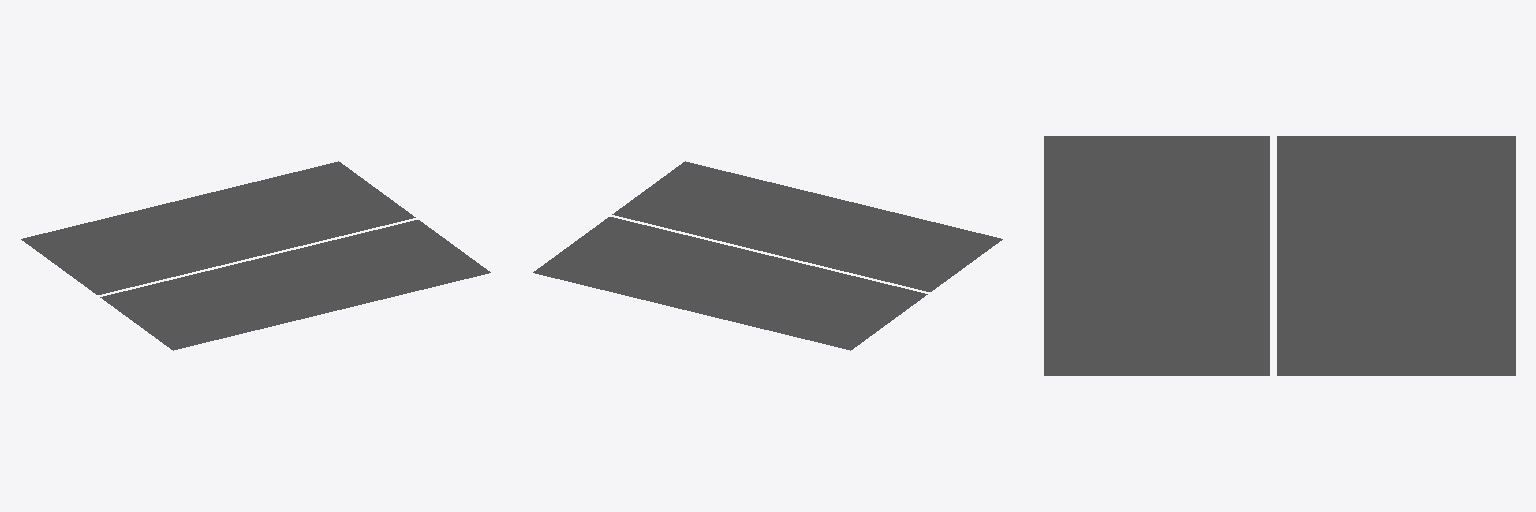
The robot description file, URDF, robot "lab_scene":
<?xml version="1.0" ?>
<robot name="lab_scene" xmlns:xacro="http://ros.org/wiki/xacro">
  <link name="base_link">
    <inertial>
      <mass value="200" />
      <inertia ixx="1.0" ixy="0.0" ixz="0.0" iyy="1.0" iyz="0.0" izz="1.0" />
    </inertial>
    <visual>
      <origin rpy="0 0 0" xyz="0 0 0"/>
      <geometry>
        <mesh filename="package://meshes/flat_hole.stl"/>
      </geometry>
      <material name="">
        <color rgba="0.4 0.4 0.4 1.0"/>
      </material>
    </visual>
    <collision concave="no">
      <origin rpy="0 0 0" xyz="0 0 0"/>
      <geometry>
        <mesh filename="package://meshes/flat_hole.stl"/>
      </geometry>
    </collision>
  </link>
  <gazebo>
    <static>1</static>
  </gazebo>
</robot>

--- Render facts (derived) ---
Views: 3 orthographic renders of the robot side by side, from view 1: azimuth 30°, elevation 25°; view 2: azimuth 150°, elevation 25°; view 3: azimuth 270°, elevation 25°.
Model lab_scene with 1 links and 0 joints (none), rooted at base_link, posed all joints at 0.
Links seen in each view (by area): view 1: base_link; view 2: base_link; view 3: base_link.
Link boxes in pixels (box(x1,y1,x2,y2)): base_link: box(21, 161, 490, 350); base_link: box(533, 161, 1002, 350); base_link: box(1044, 136, 1515, 375).
Size in the robot's own frame: 23.39 by 19.38 by 0 metres.
Meshes: 1 distinct files referenced, 1 mesh visuals loaded (1 binary STL).
